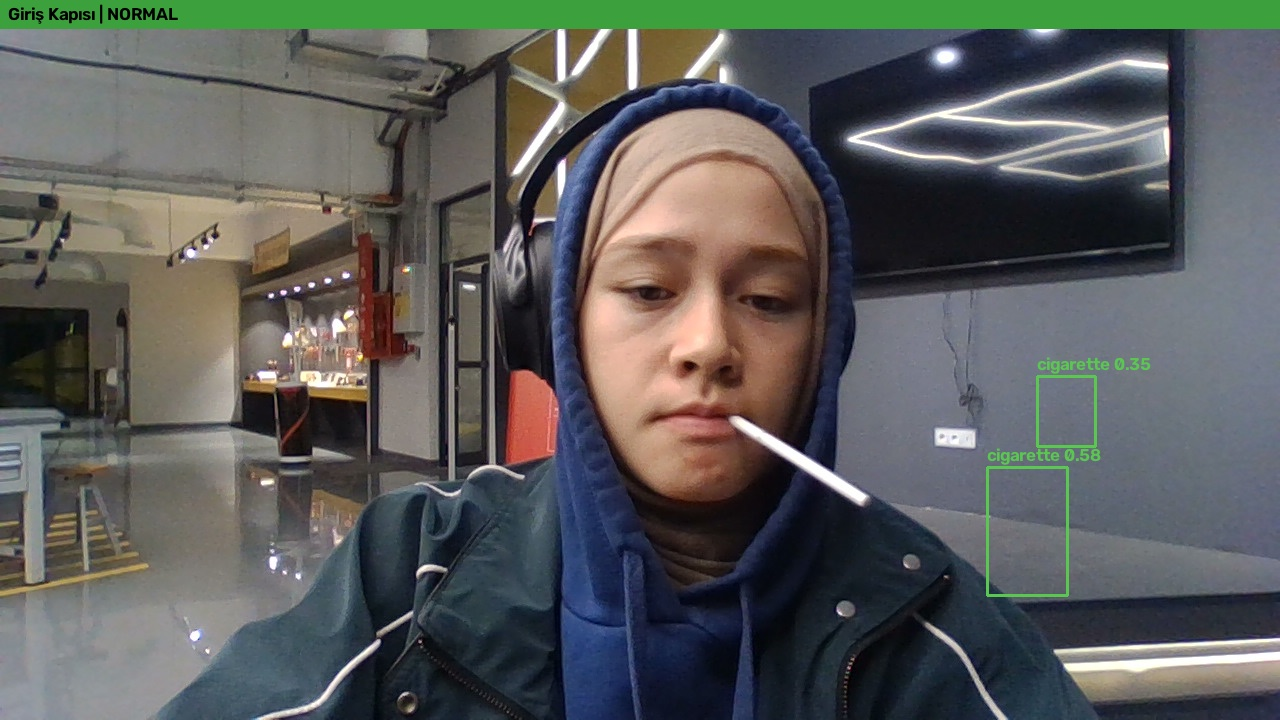cigarette: (761, 458, 842, 496)
